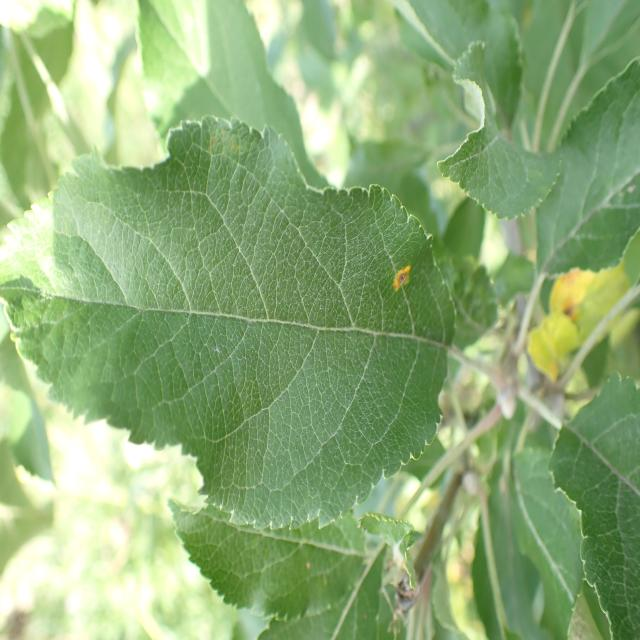rust: (2, 116, 457, 532)
